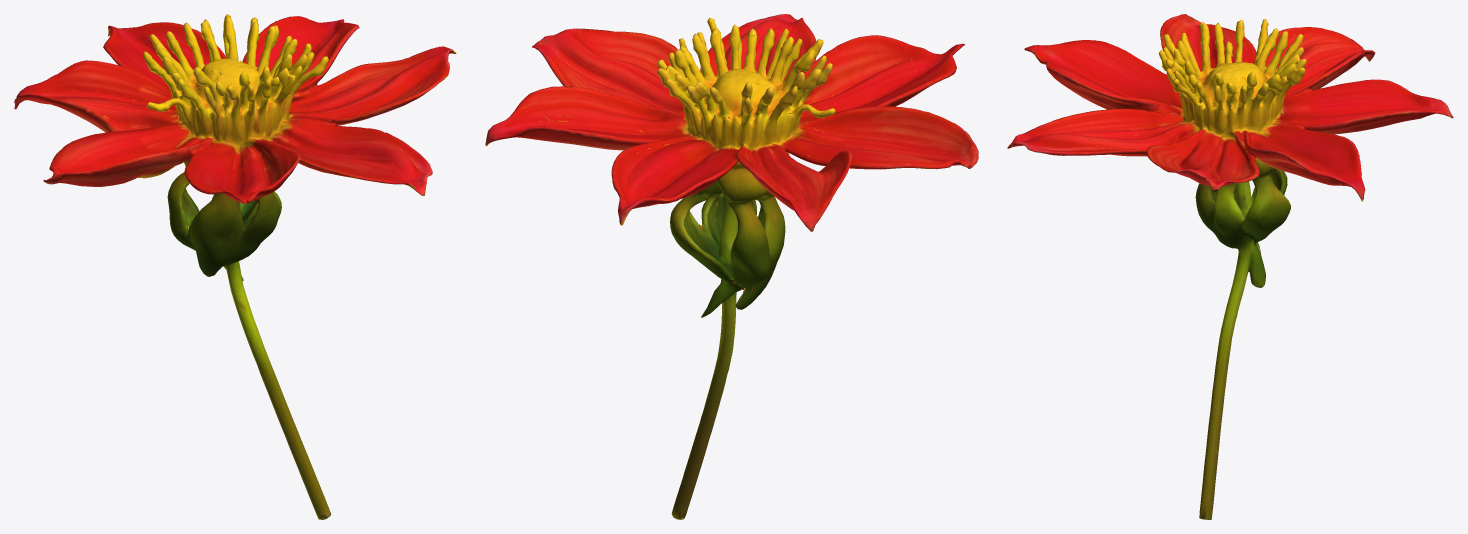
The model's file is dhalia.glb.
The picture shows the model from 3 angles, left to right: view 1: azimuth 30°, elevation 25°; view 2: azimuth 150°, elevation 25°; view 3: azimuth 270°, elevation 25°; orthographic projection. The views are drawn at different scales.
Visible parts, largest first — view 1: Mesh1.0; view 2: Mesh1.0; view 3: Mesh1.0.
Boxes of the visible parts, x1,y1,x2,y2 form: Mesh1.0: (14,14,456,519); Mesh1.0: (485,14,978,519); Mesh1.0: (1007,14,1453,519).
Size of the model in its own units: 1.74 by 1.91 by 1.76.
Materials: 1 (1 with a texture image).
